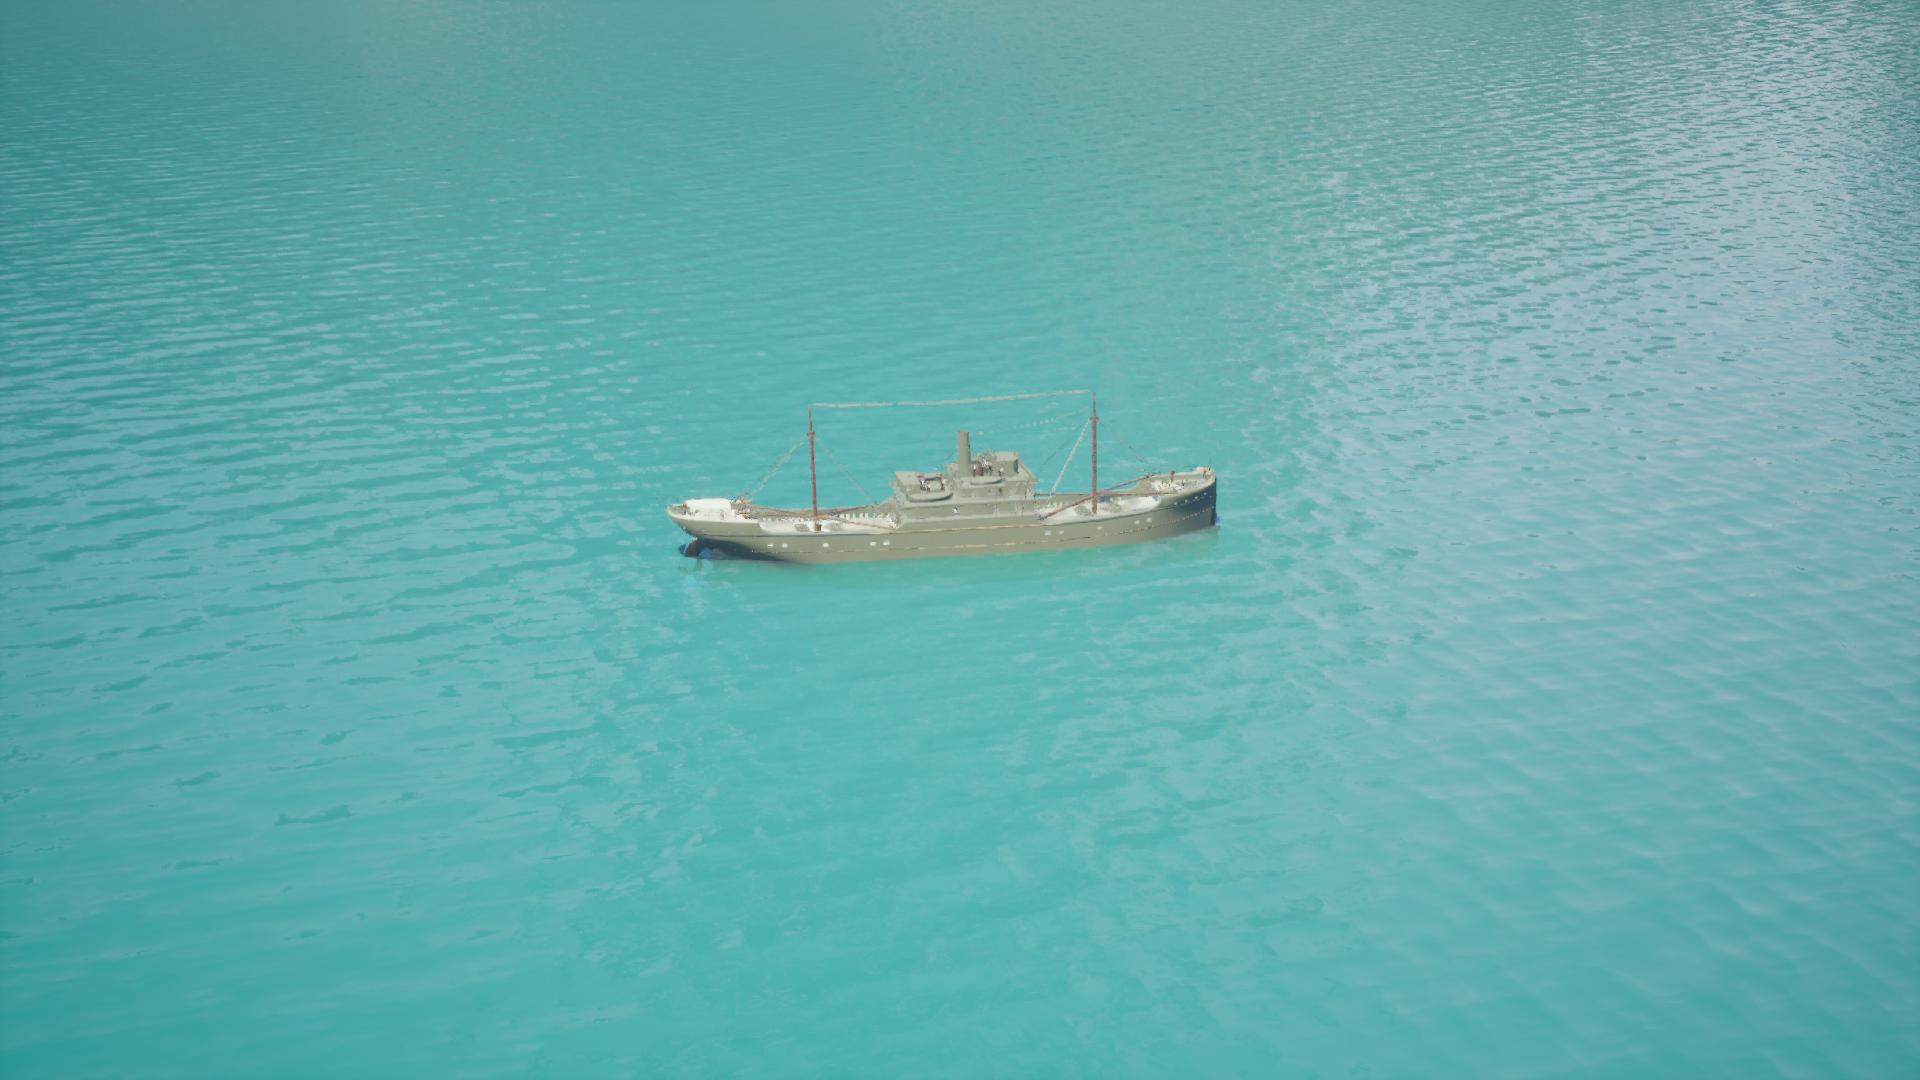Fishing Boat: (673, 392, 1215, 572)
